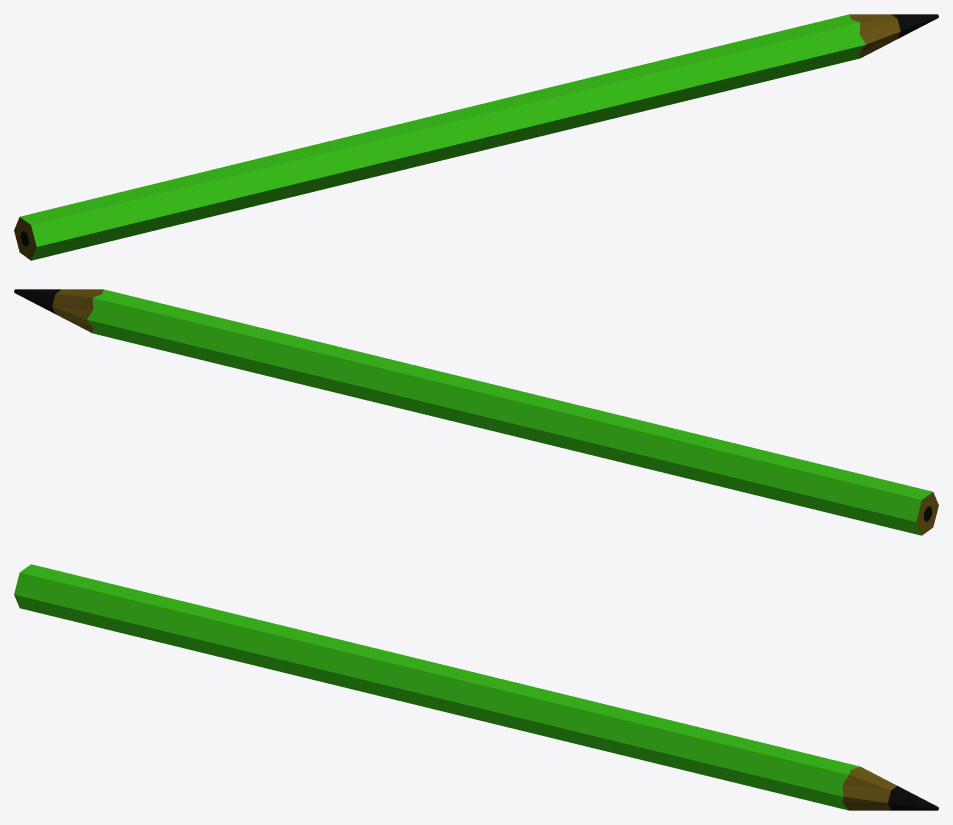
File: pencil.FBX
The picture shows the model from 3 angles, top to bottom: view 1: azimuth 30°, elevation 25°; view 2: azimuth 150°, elevation 25°; view 3: azimuth 330°, elevation 25°; orthographic projection.
Visible parts, largest first — view 1: penc; view 2: penc; view 3: penc.
Boxes of the visible parts, box(x1,y1,x2,y2) form: penc: box(14, 14, 938, 260); penc: box(14, 289, 938, 535); penc: box(14, 564, 938, 810).
Bounding box in the file's own units: 0.2437 × 0.0091 × 0.0105.
